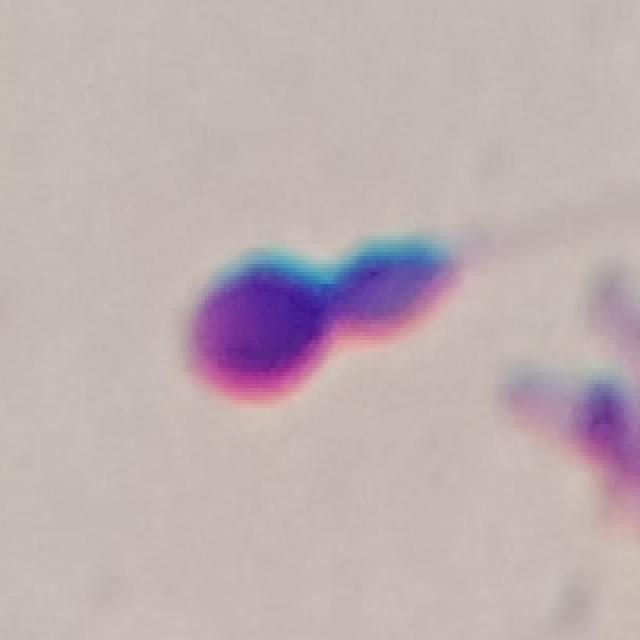abnormal sperm: (188, 212, 549, 403)
